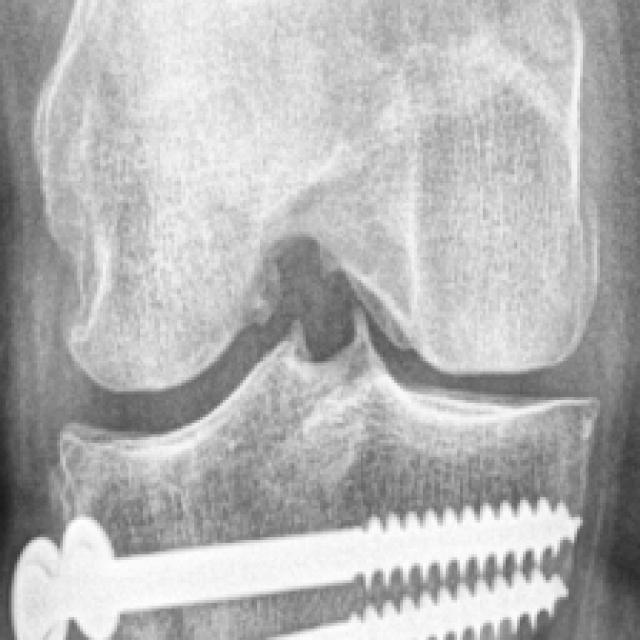femur: (35, 0, 598, 393)
tibia: (12, 311, 603, 640)
